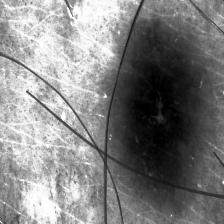Benign Marking or Mole: (128, 26, 201, 192)
